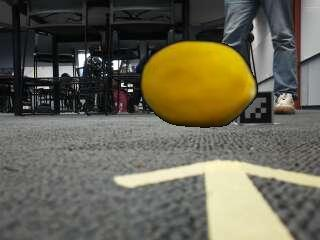lemon: (141, 44, 256, 128)
